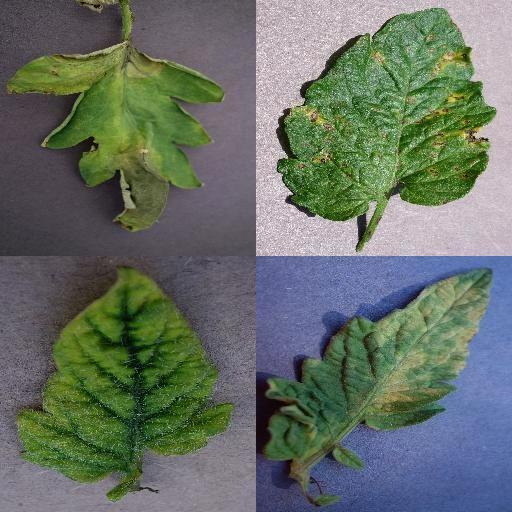Late Blight: (3, 40, 227, 234)
Leaf Mold: (266, 267, 492, 459)
Septoria: (276, 6, 496, 222)
Yellow Leaf Curl Virus: (14, 265, 236, 485)
